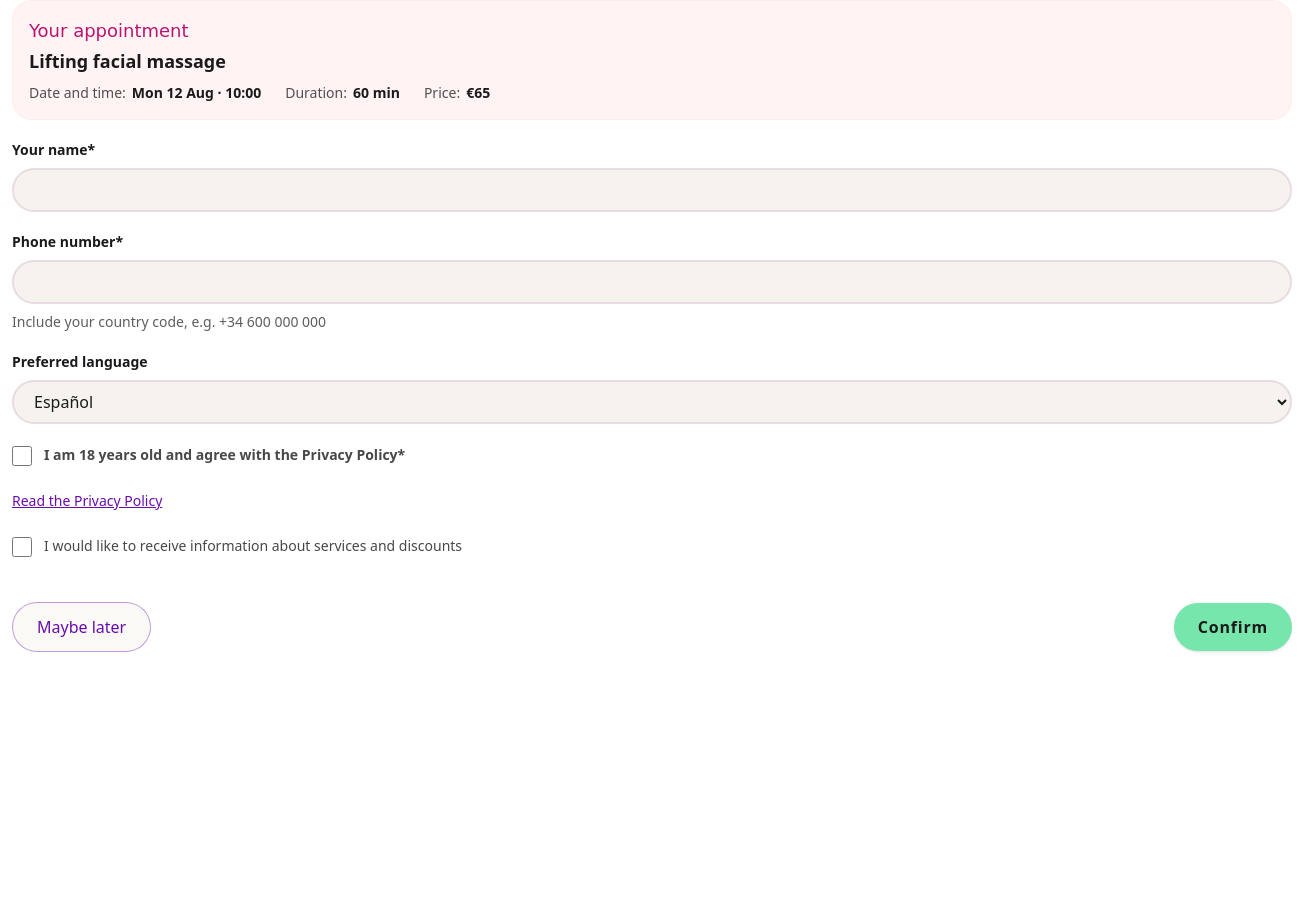
AppointmentForm › does not confirm on an empty name and ties the message to the field
Type "+34600000000" into the field labelled "Phone number*" at (652, 282), box [12,260,1292,304]
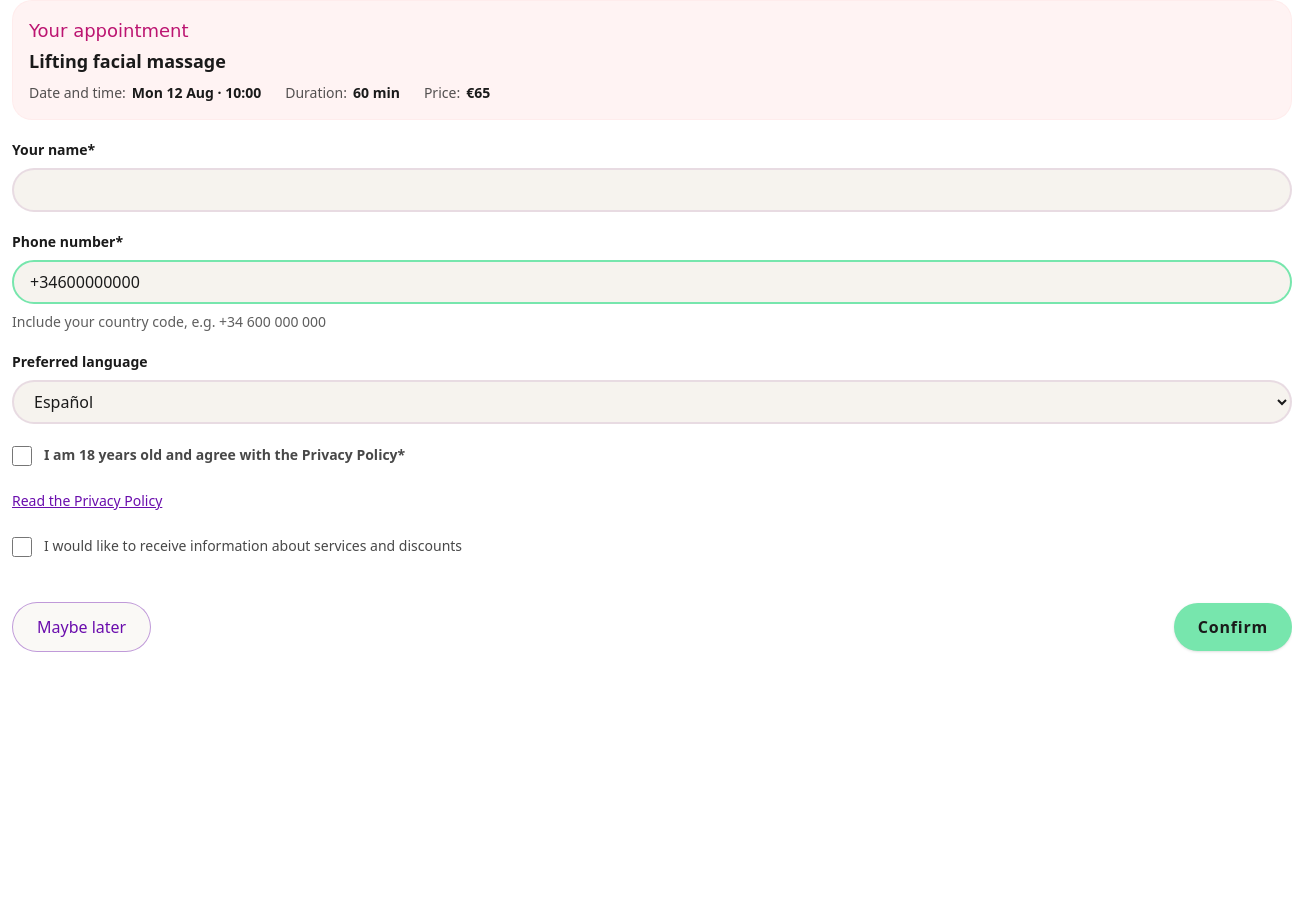
Click the checkbox labelled "I am 18 years old and agree with the Privacy Policy*" at (22, 456), box [12,446,32,466]
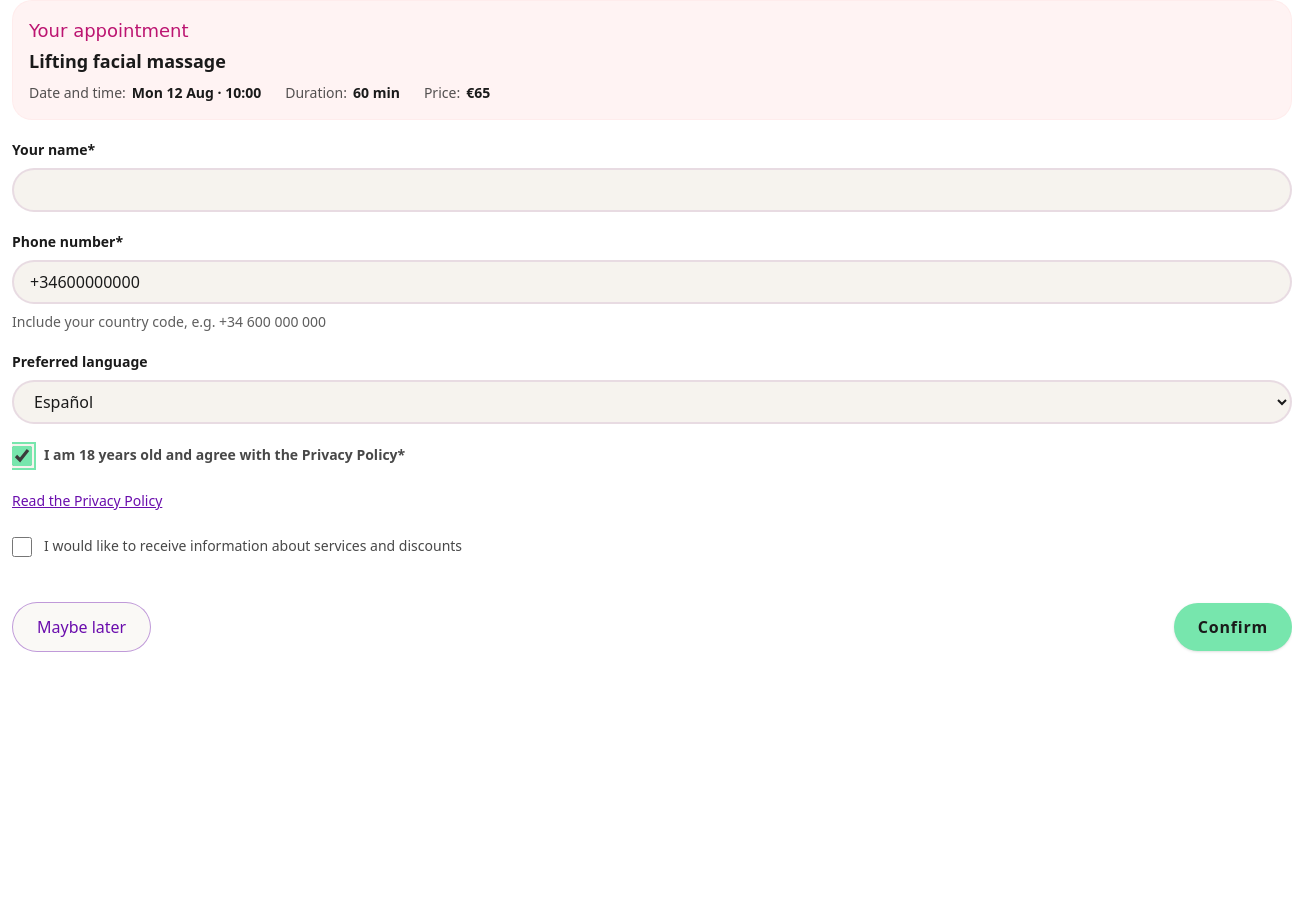
Click the button "Confirm" at (1233, 626), box [1174,602,1292,650]
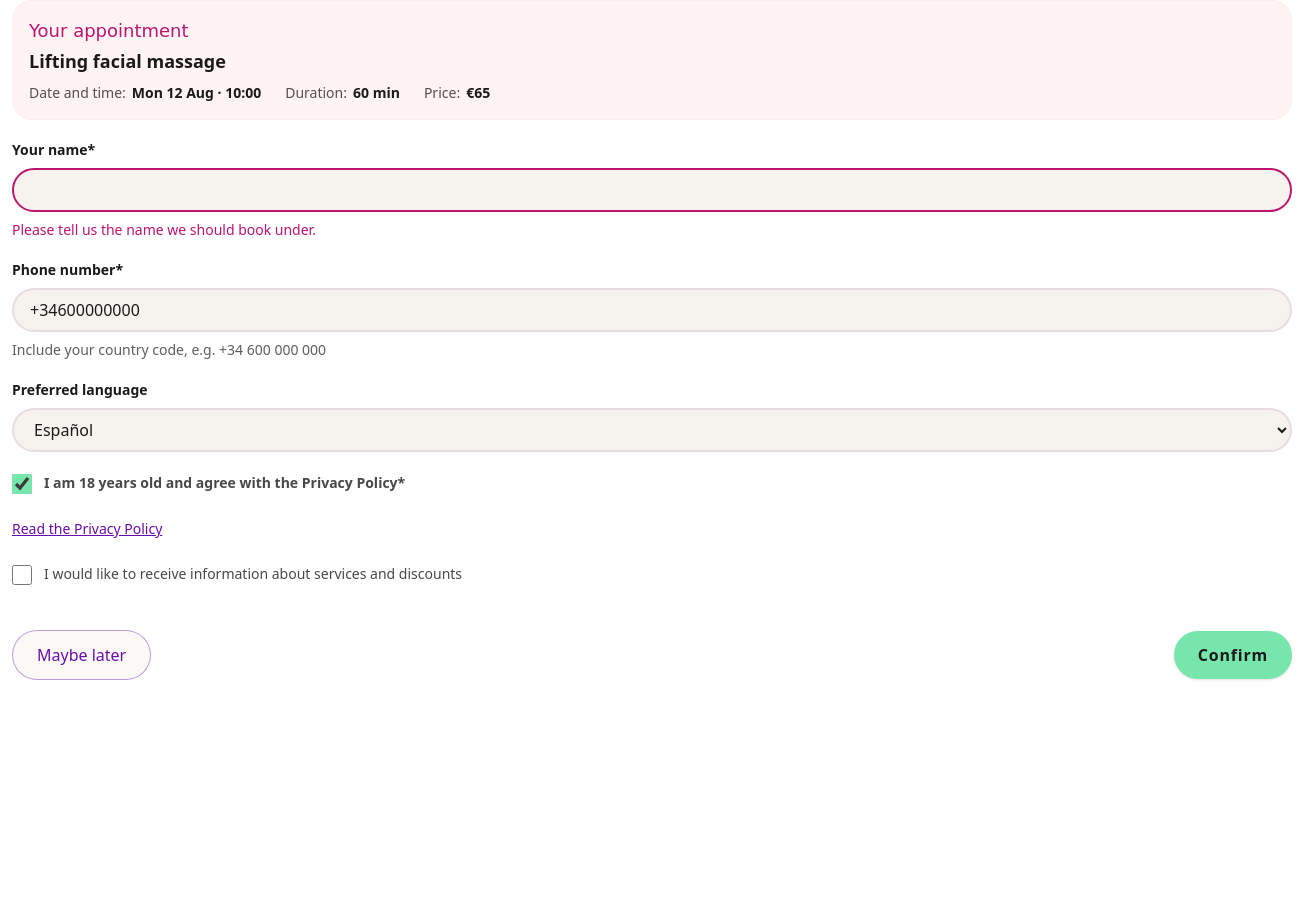
Expected: the text "Please tell us the name we should book under." is shown, [12,220,316,239]
